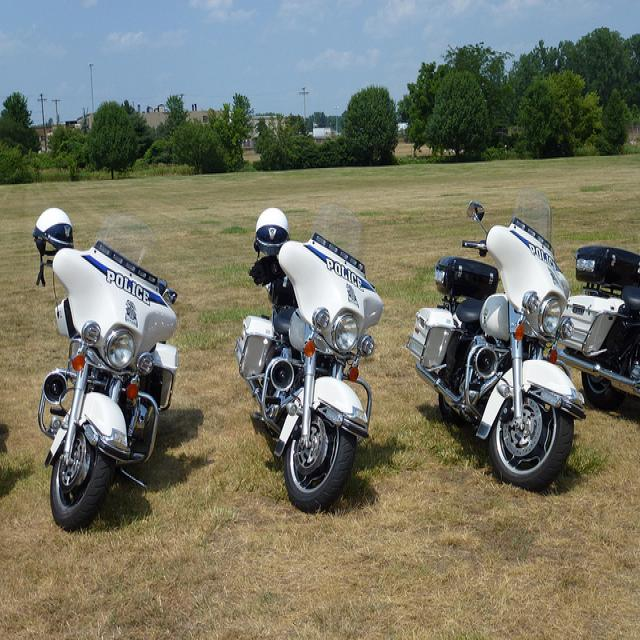motor: (404, 195, 587, 494), (33, 207, 179, 535), (235, 207, 385, 512), (558, 230, 640, 420)
